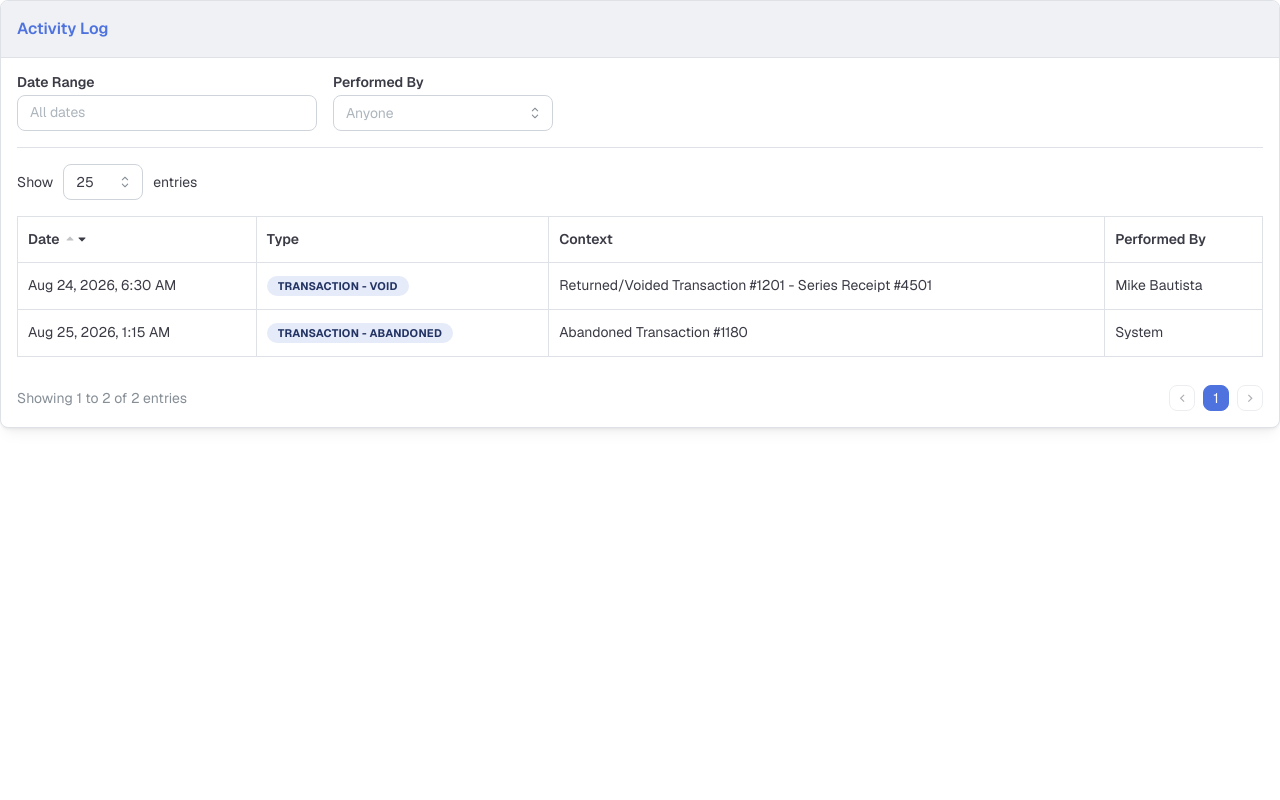
Scenario: ActivityLogPage — the detail drawer › renders the details as label/value pairs once they resolve
The width and height of the screenshot is (1280, 800).
Step 1. Click the text "Returned/Voided Transaction #1201 - Series Receipt #4501" → (827, 286), box [549, 263, 1105, 310]
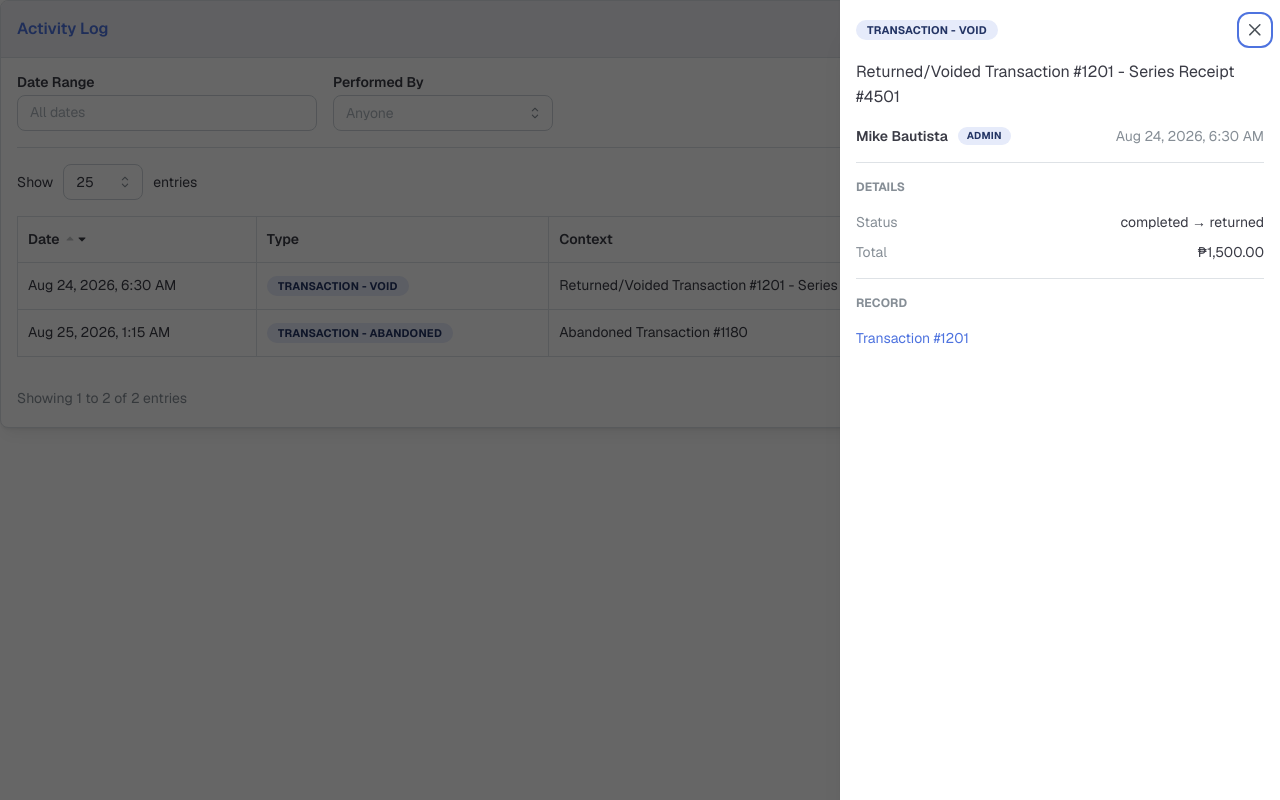
Expected: the text "Status" is shown, [856, 212, 898, 232]
Expected: the text "completed → returned" is shown, [1121, 212, 1264, 232]
Expected: the text "₱1,500.00" is shown, [1198, 242, 1264, 262]
